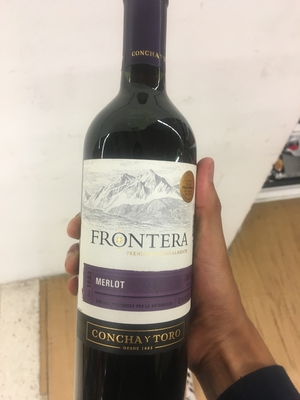frontera merlot: (69, 13, 225, 400)
